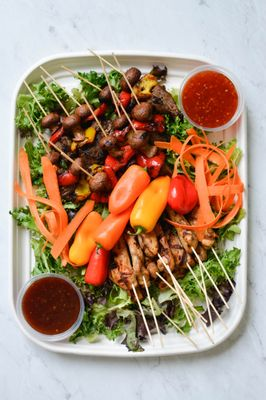sushi: (6, 50, 247, 386)
